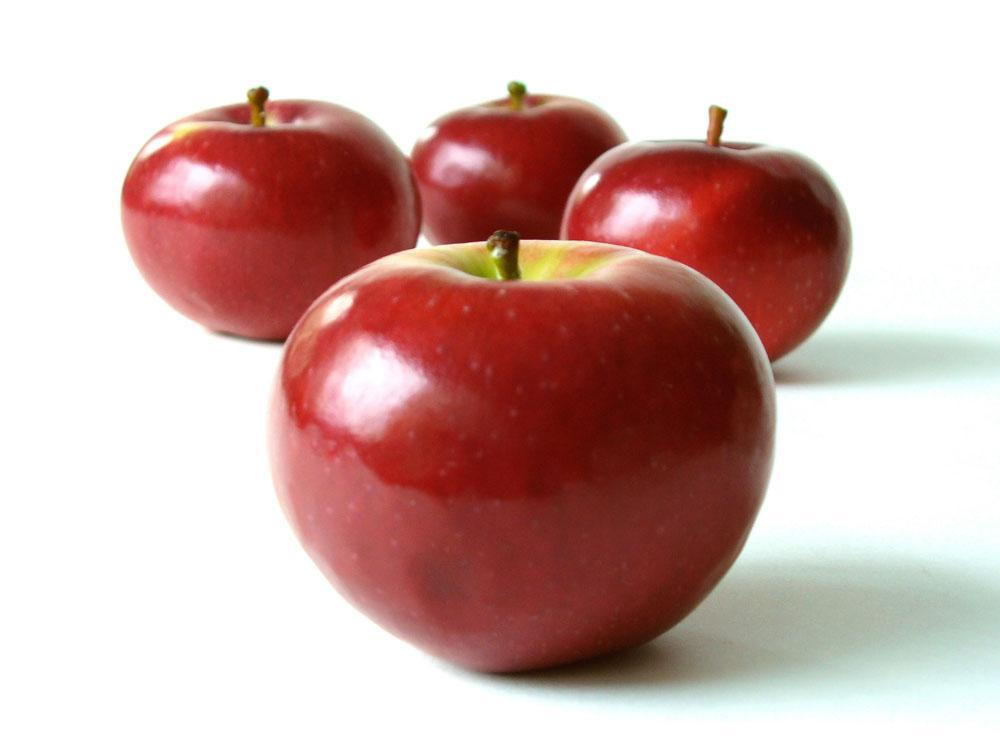apple: (274, 230, 782, 678), (553, 114, 866, 368), (117, 88, 430, 342)
